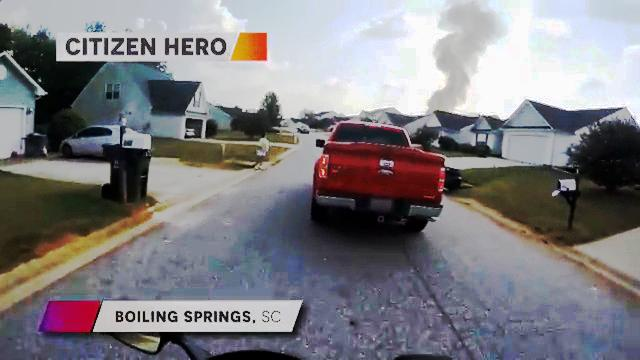smoke: (438, 8, 495, 50), (434, 52, 472, 87), (426, 89, 466, 114)
